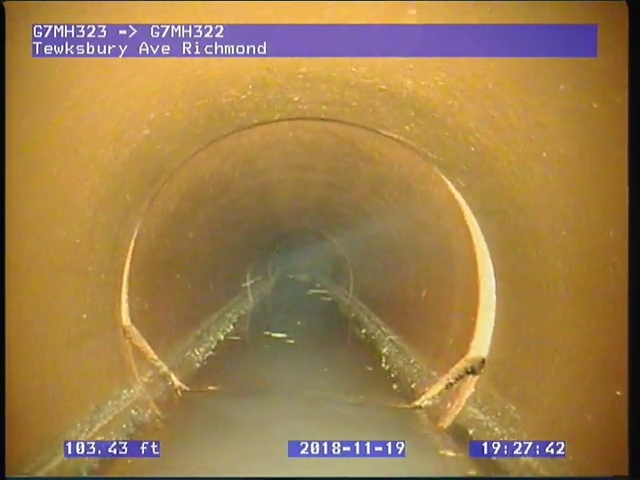crack: (399, 355, 490, 411), (155, 359, 223, 400)
